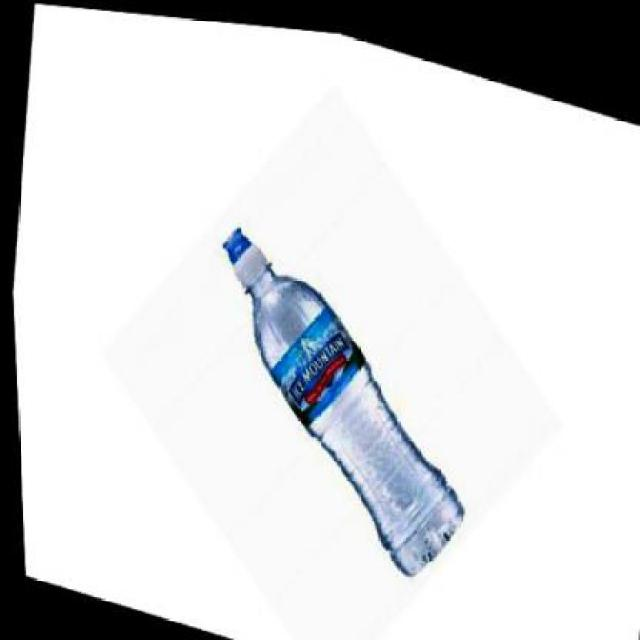Plastic: (218, 222, 462, 576)
